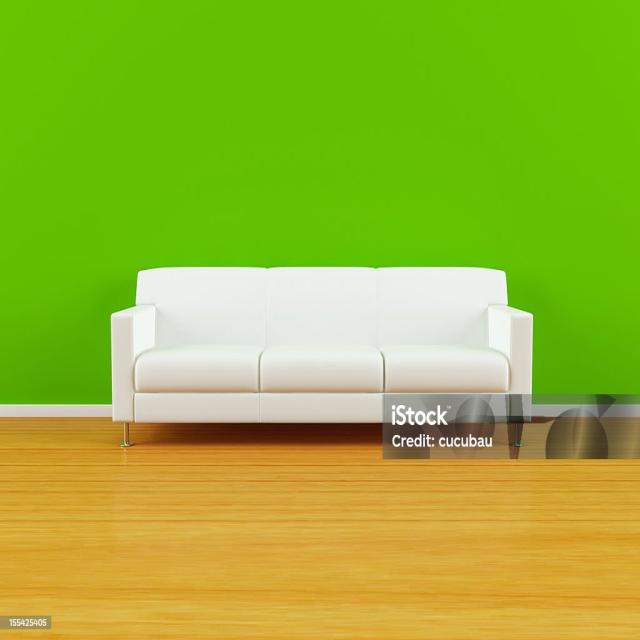back_cushion: (136, 268, 507, 348)
base: (129, 393, 513, 430)
left_arm: (489, 305, 532, 394)
legs: (120, 423, 133, 447), (510, 423, 522, 446)
right_arm: (111, 305, 155, 421)
seat_cushion: (134, 344, 514, 393)
stallion-sofa1: (111, 266, 532, 457)
